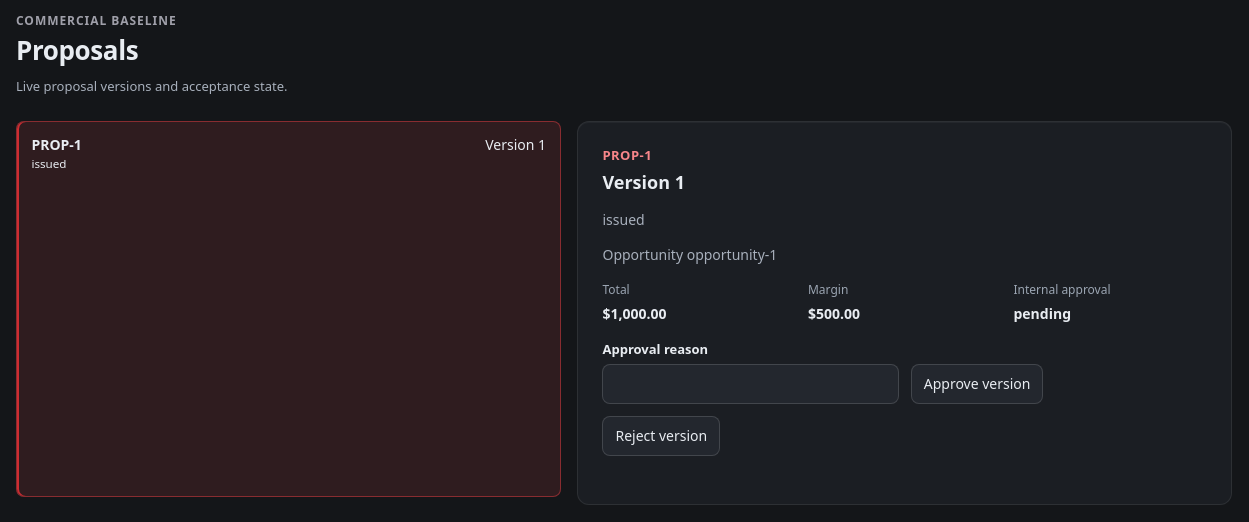
it: uses the loaded approval version before approval and offline acceptance
This screenshot has width=1249, height=522.
Expected: the text "pending" is shown, left=1014, top=304, right=1071, bottom=323
Type "Margin reviewed" into the field labelled "Approval reason".
click(751, 384); type("Margin reviewed")  # box left=602, top=364, right=899, bottom=404
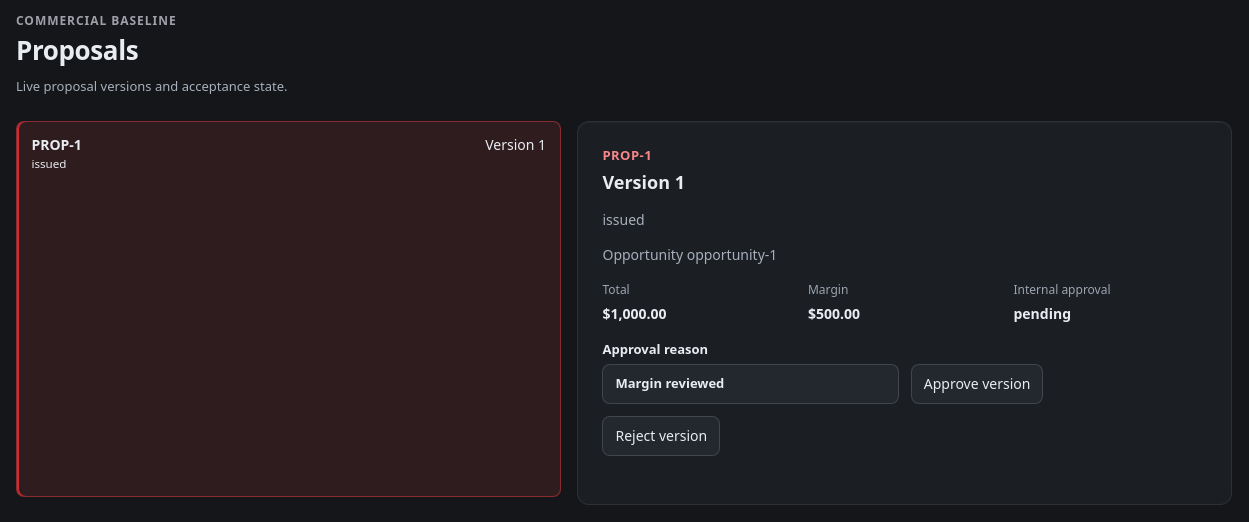
Click the button "Approve version".
click(977, 384)  # box left=911, top=364, right=1044, bottom=404
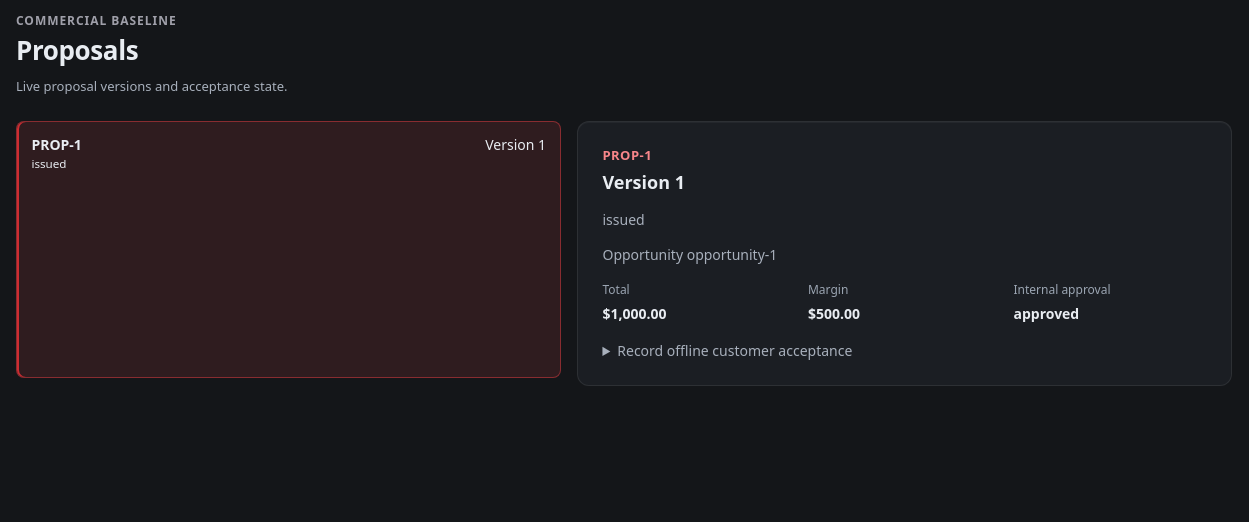
Result: the heading "Record offline customer acceptance" is shown at left=617, top=341, right=852, bottom=360
